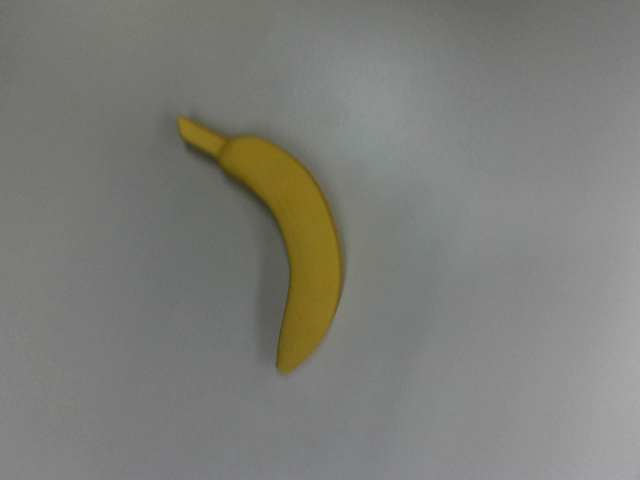banana: (175, 80, 375, 379)
